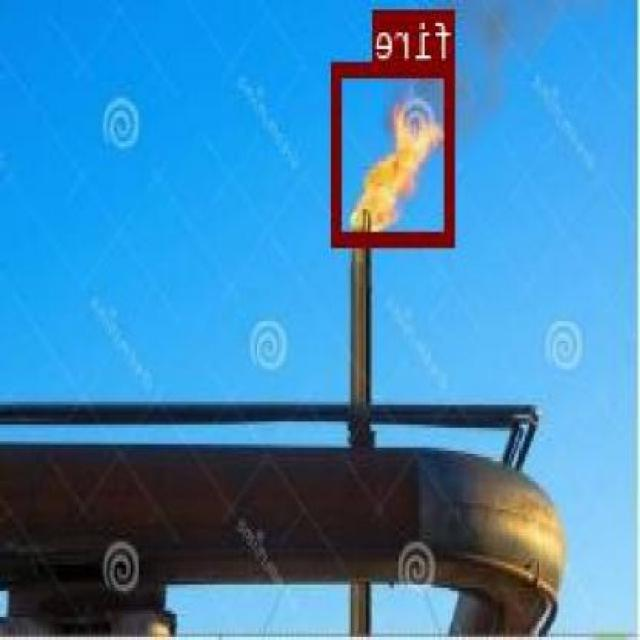fire: (334, 59, 456, 244)
